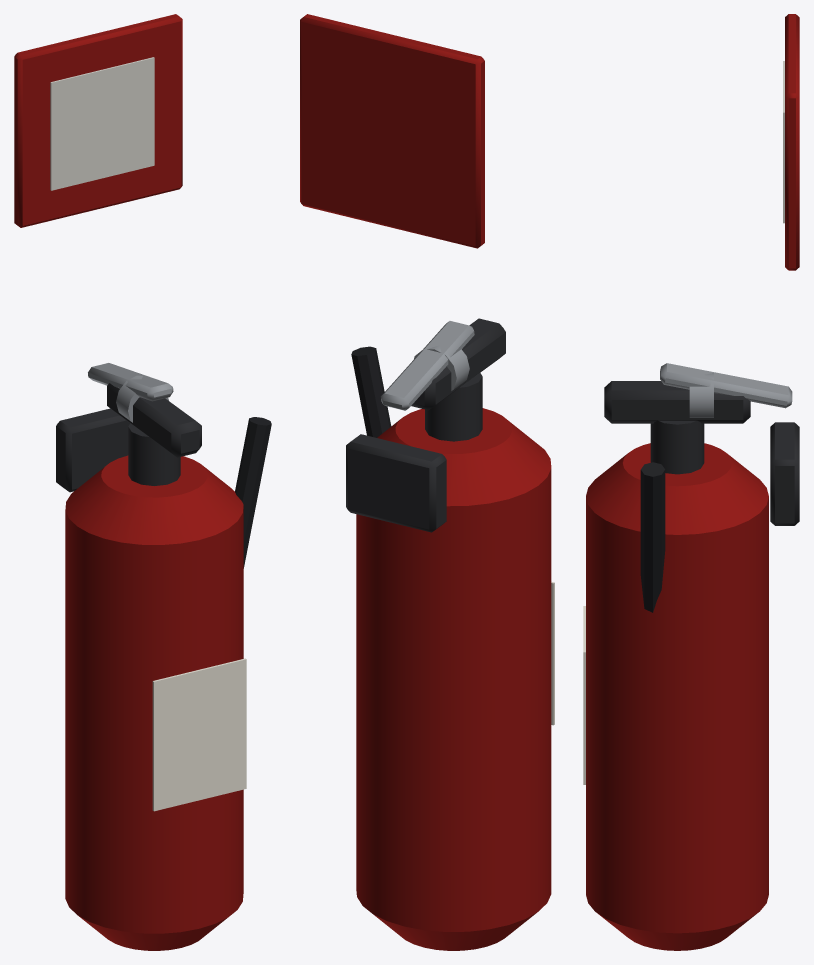
The model's file is extinguisher.glb.
The picture shows the model from 3 angles, left to right: view 1: azimuth 30°, elevation 25°; view 2: azimuth 150°, elevation 25°; view 3: azimuth 270°, elevation 25°; orthographic projection. The views are drawn at different scales.
Parts seen in each view (by area): view 1: extinguisher; view 2: extinguisher; view 3: extinguisher.
Part boxes in pixels (x1,y1,x2,y2): extinguisher: [14, 14, 271, 950]; extinguisher: [300, 14, 554, 950]; extinguisher: [583, 14, 799, 950].
Bounding box in the file's own units: 0.181 × 0.79 × 0.177.
